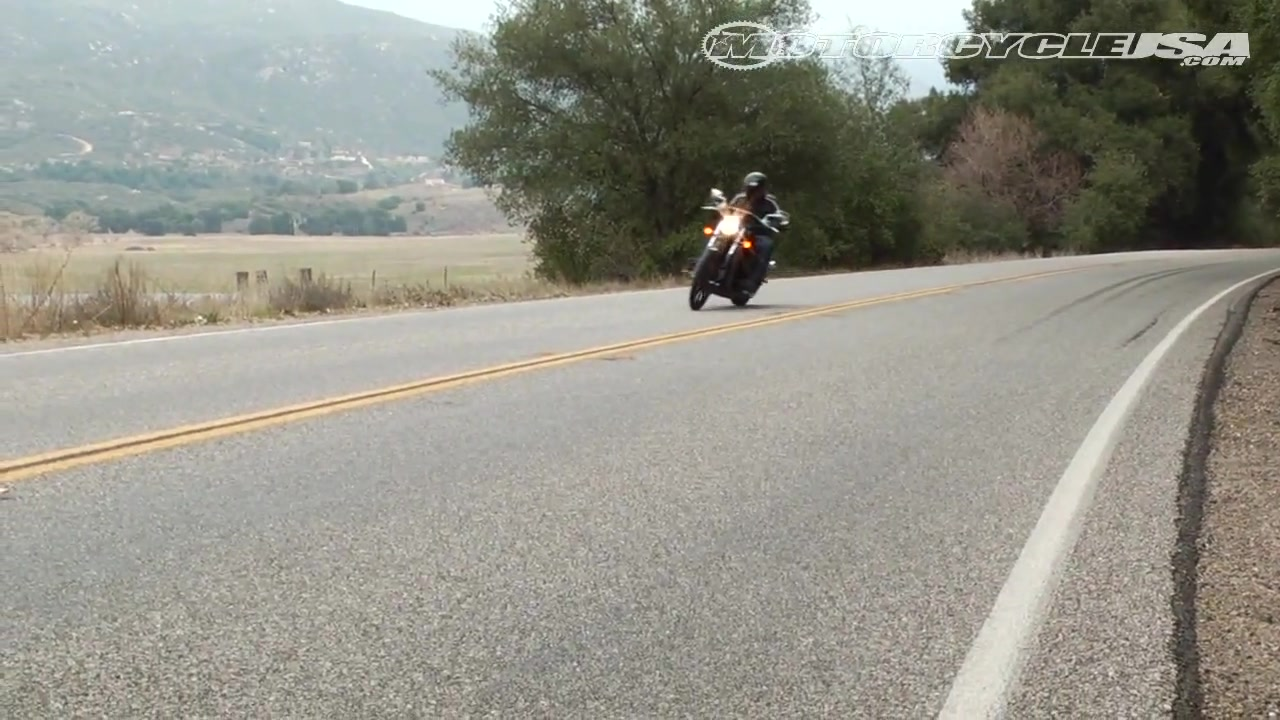motorbike: (685, 189, 789, 309)
